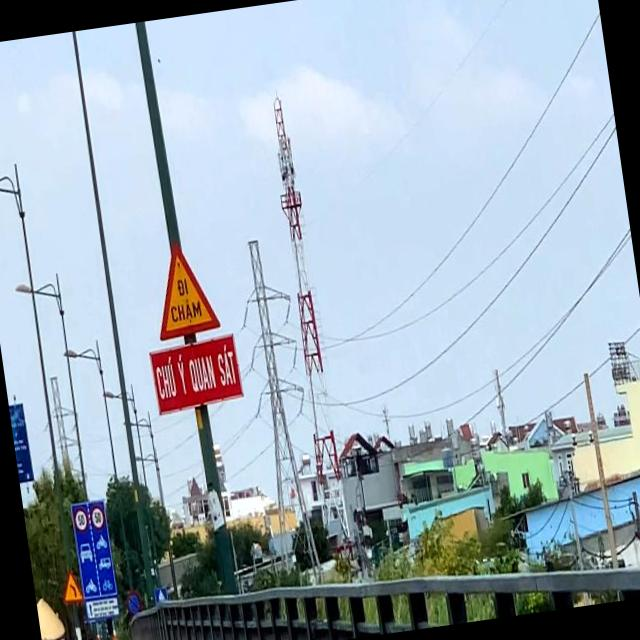P-127c: (72, 502, 120, 599)
W-201a: (61, 570, 82, 604)
W-245a: (146, 238, 222, 338)
